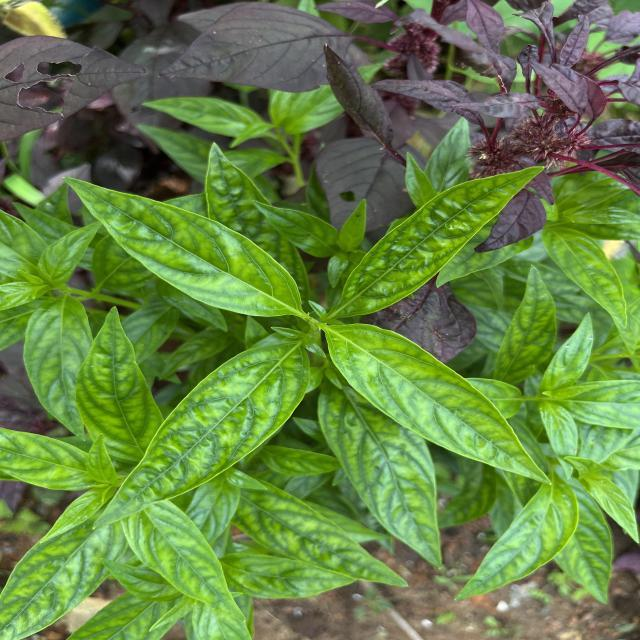Andrographis paniculata: (90, 342, 308, 536), (322, 320, 558, 486), (64, 173, 306, 320), (332, 164, 548, 320), (318, 386, 446, 574), (237, 478, 410, 594), (1, 502, 125, 640), (120, 496, 248, 626), (454, 478, 580, 604), (72, 303, 166, 448), (22, 296, 90, 434), (544, 228, 629, 334), (492, 264, 558, 384), (562, 496, 613, 606), (250, 199, 344, 257), (538, 310, 596, 400)
